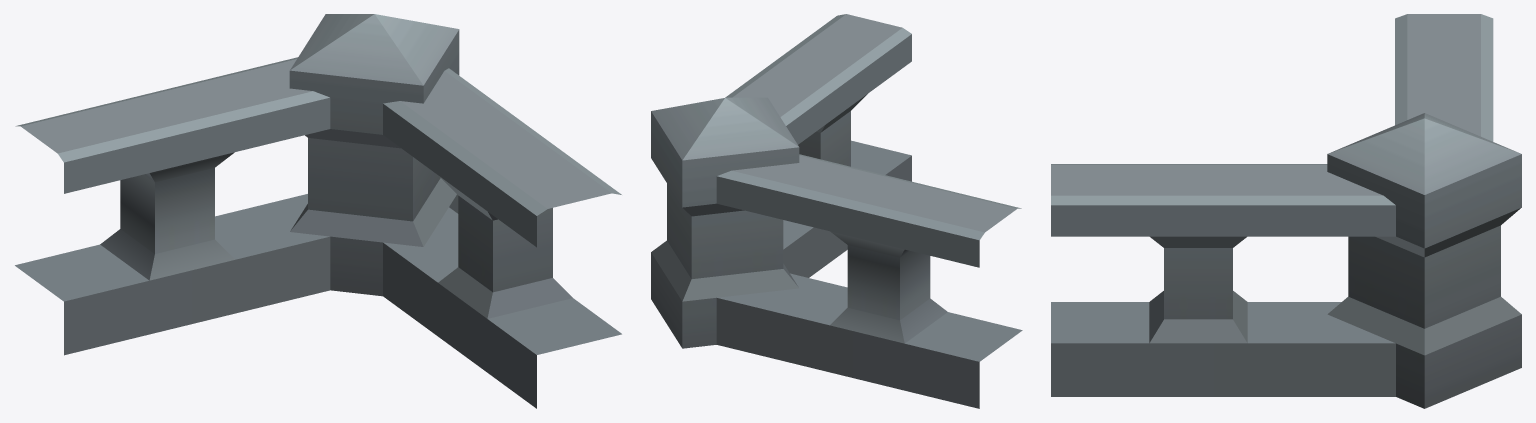
The model's file is kcas_barrier_corner.glb.
The picture shows the model from 3 angles, left to right: view 1: azimuth 30°, elevation 25°; view 2: azimuth 150°, elevation 25°; view 3: azimuth 270°, elevation 25°; orthographic projection. The views are drawn at different scales.
Visible parts, largest first — view 1: barrier_corner; view 2: barrier_corner; view 3: barrier_corner.
Boxes of the visible parts, bbox=[...] form: barrier_corner: bbox=[15, 14, 621, 408]; barrier_corner: bbox=[651, 14, 1022, 408]; barrier_corner: bbox=[1051, 14, 1521, 408].
Bounding box in the file's own units: 2.39 × 1.4 × 2.39.
Materials: 1 (1 with a texture image).
